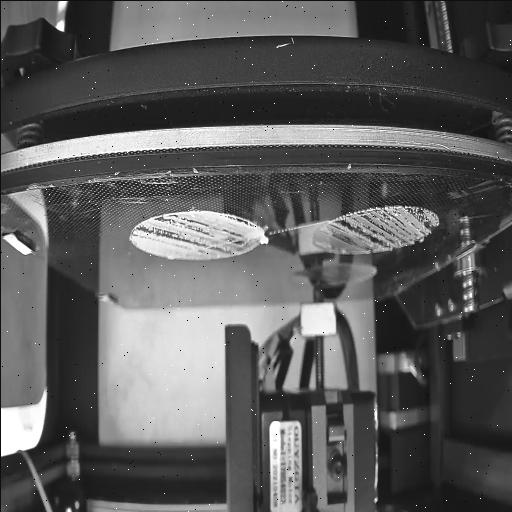under_extrusion: (311, 203, 439, 258), (131, 215, 256, 253)
